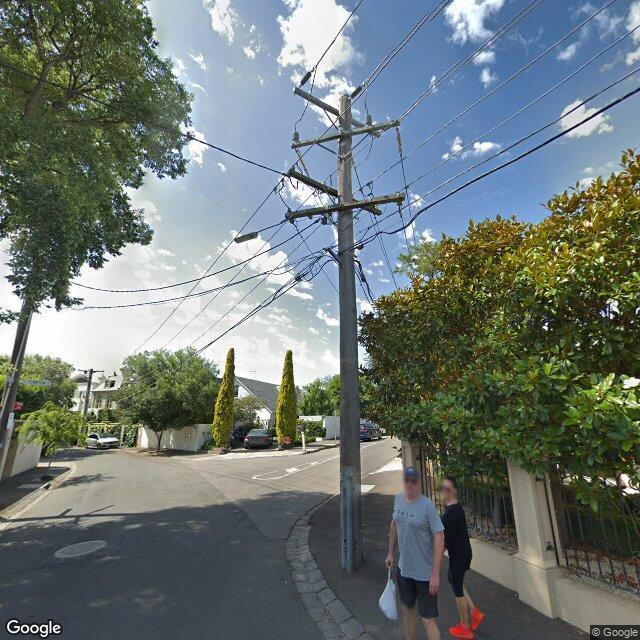HV-transmission: (290, 114, 400, 150)
crossarm: (274, 162, 382, 217), (285, 190, 407, 227), (294, 88, 382, 139), (291, 120, 401, 150), (78, 368, 105, 374)
streetlight: (232, 218, 288, 244)
timber-pole: (338, 93, 363, 575), (83, 369, 93, 413)
